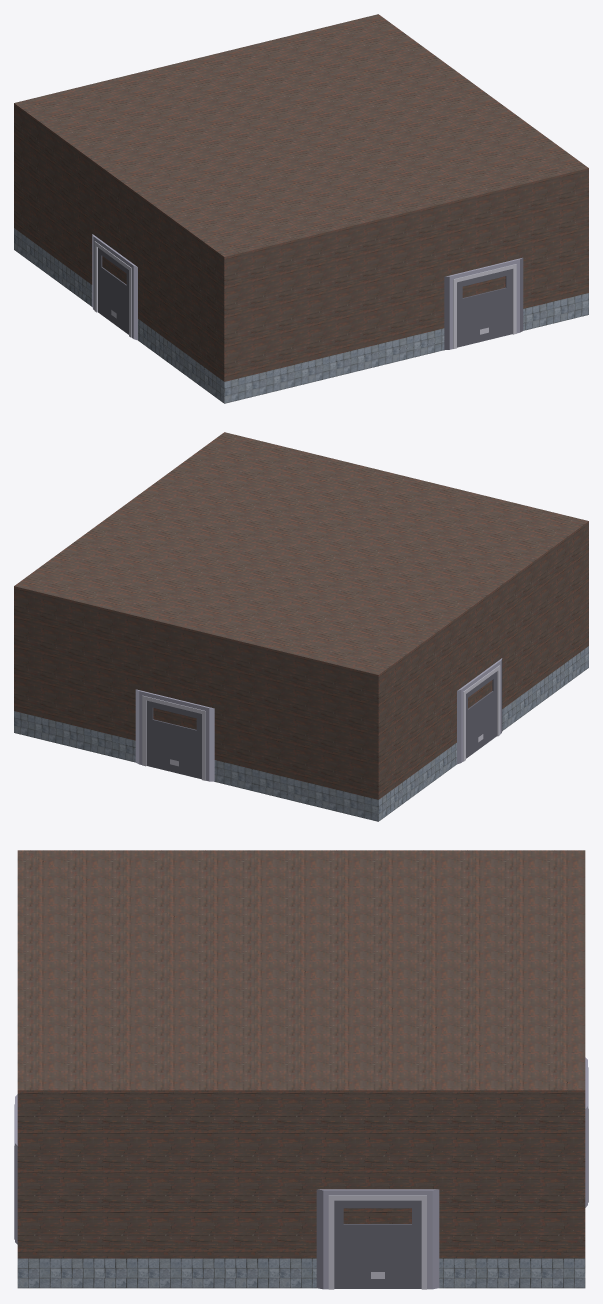
Rendered from BlueBuilding.obj.
3 renders of one model, top to bottom at view 1: azimuth 30°, elevation 25°; view 2: azimuth 150°, elevation 25°; view 3: azimuth 270°, elevation 25°, orthographic. The views are drawn at different scales.
Size of the model in its own units: 13.16 by 5 by 13.16.
10 materials, 2 textured.
